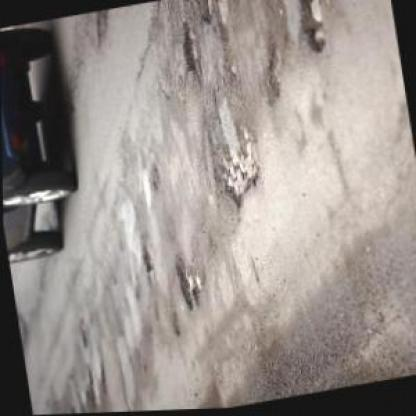pothole: (209, 122, 270, 212), (170, 250, 209, 312), (175, 23, 202, 78), (139, 241, 154, 275)
